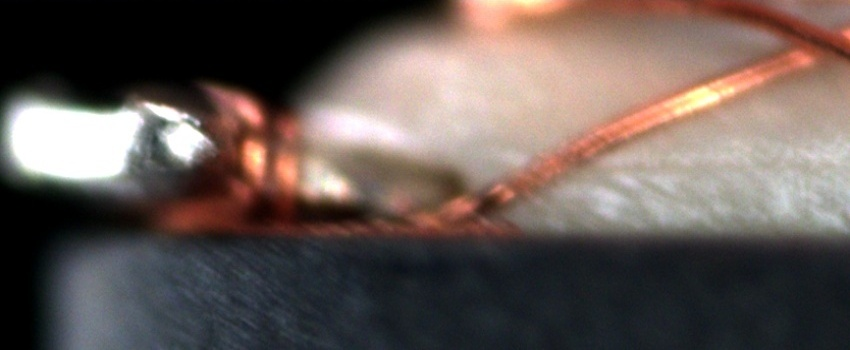DL: (574, 130, 849, 194)
TE: (203, 69, 304, 230)
